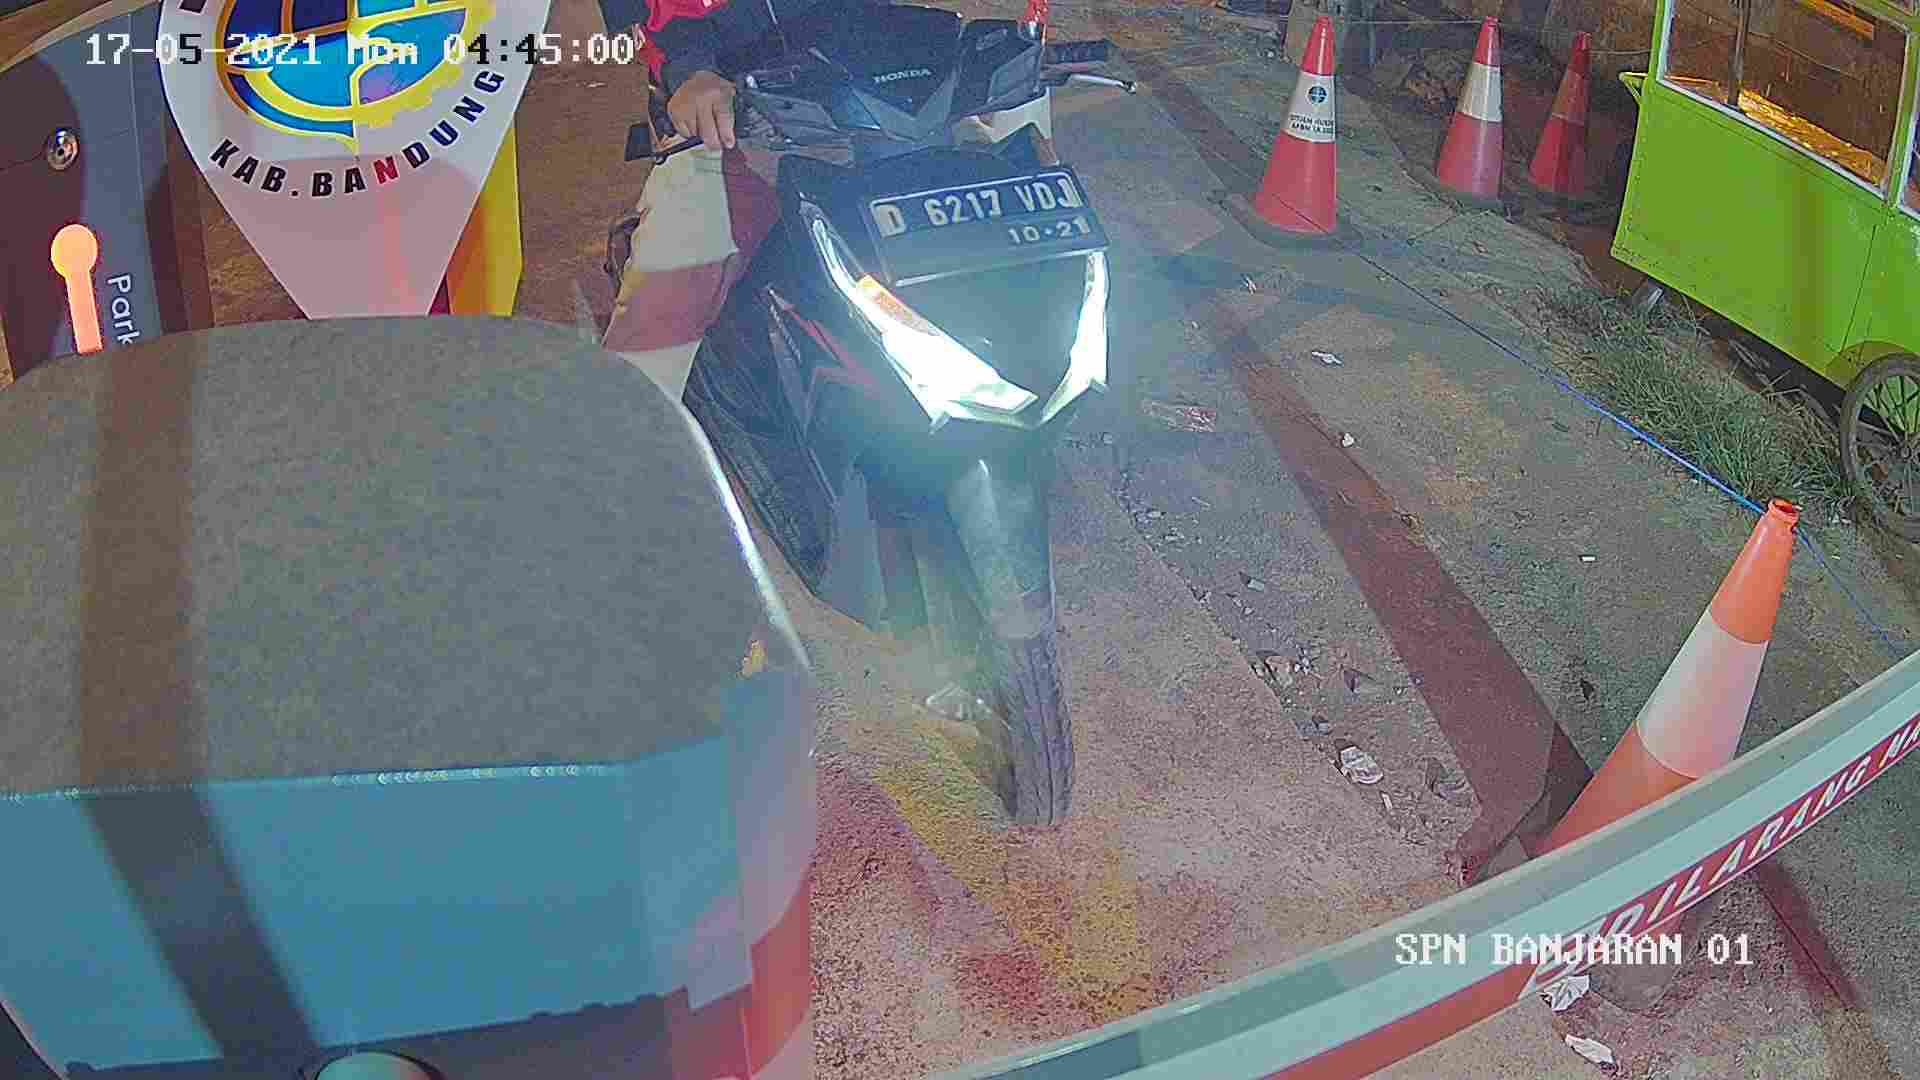motor: (678, 63, 1199, 847)
